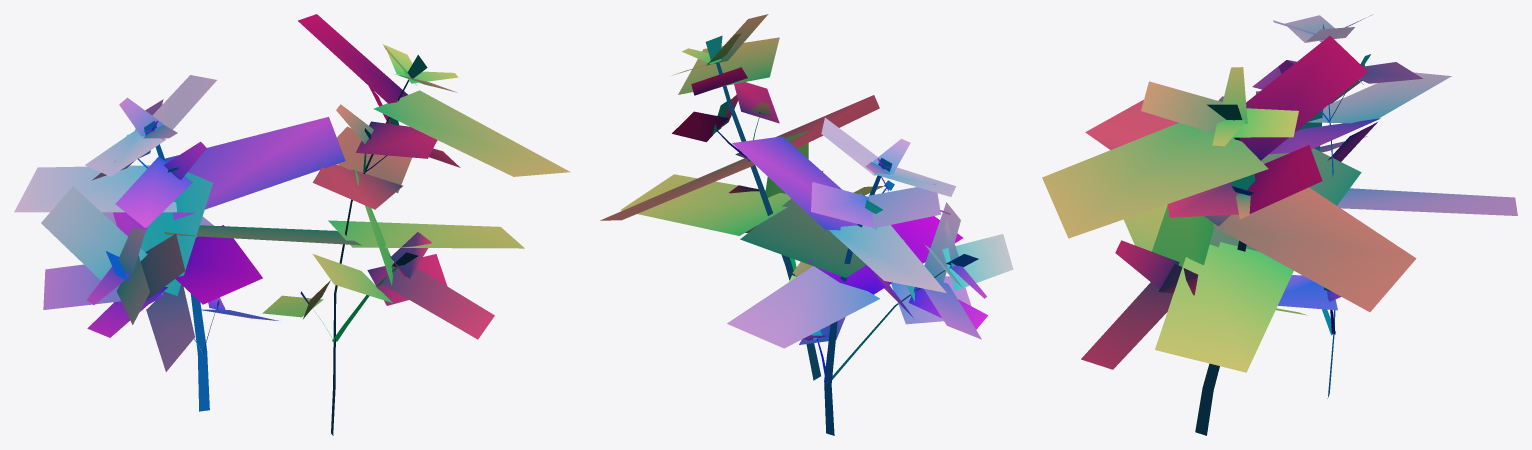
The model's file is Common_Hemp_Nettle_xh1kdfbqx_Mid_xh1kdfbqx_VarC_LOD2.fbx.
3 renders of one model, left to right at view 1: azimuth 30°, elevation 25°; view 2: azimuth 150°, elevation 25°; view 3: azimuth 270°, elevation 25°, orthographic. The views are drawn at different scales.
Parts seen in each view (by area): view 1: _rd9j_VarC_LOD4; view 2: _rd9j_VarC_LOD4; view 3: _rd9j_VarC_LOD4.
Part boxes in pixels (x1,y1,x2,y2): _rd9j_VarC_LOD4: [14, 14, 570, 435]; _rd9j_VarC_LOD4: [600, 14, 1013, 435]; _rd9j_VarC_LOD4: [1042, 14, 1517, 435].
Size of the model in its own units: 91.84 by 76.63 by 80.18.
